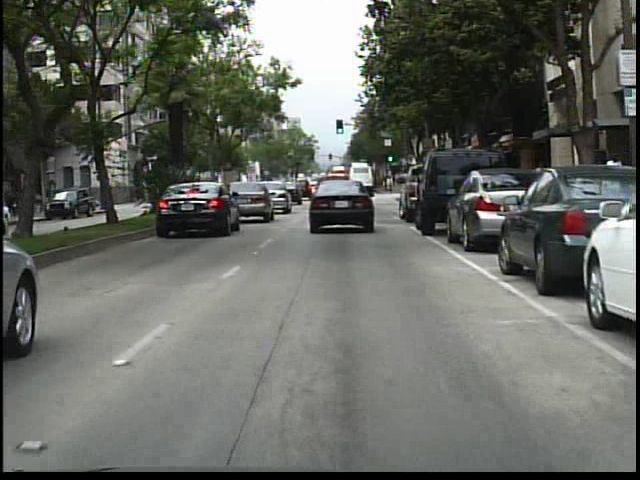person: (600, 151, 627, 228)
